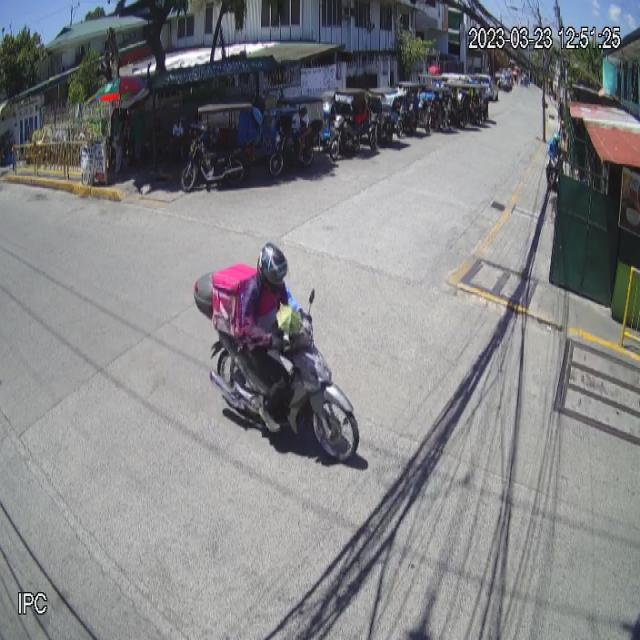Motorcycle: (191, 264, 360, 465)
